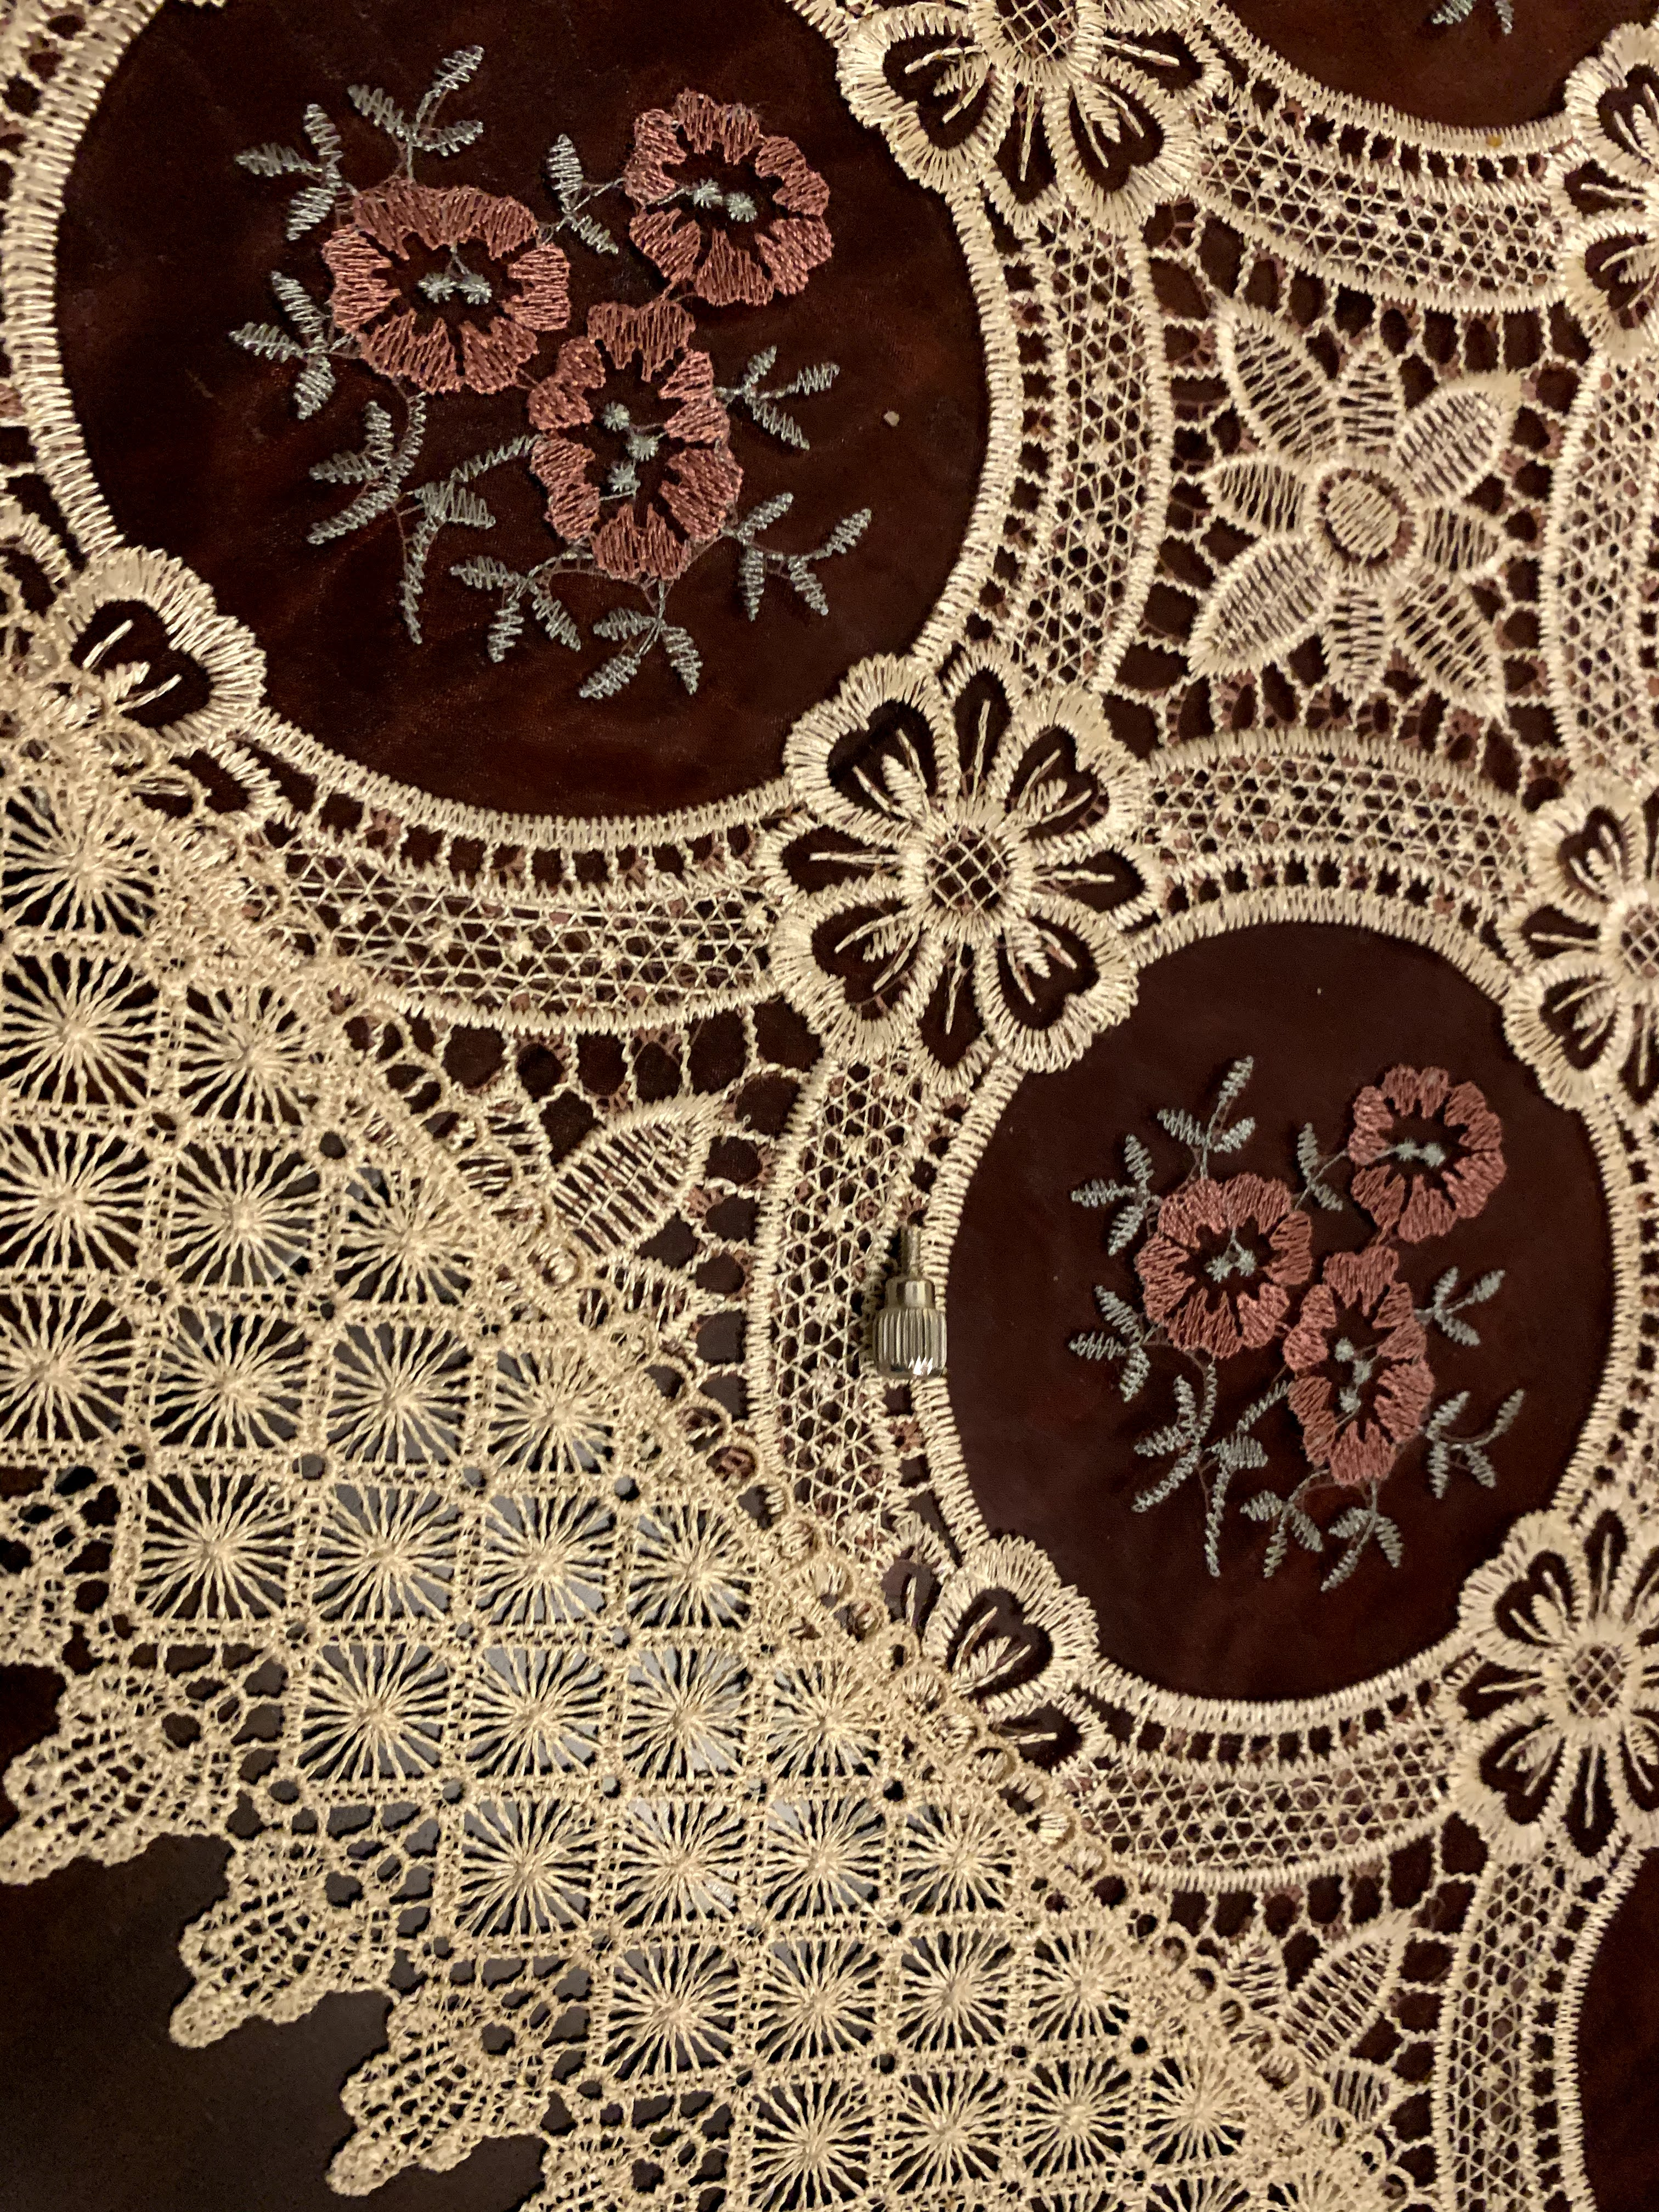Space-debris-small: (859, 1214, 962, 1390)
